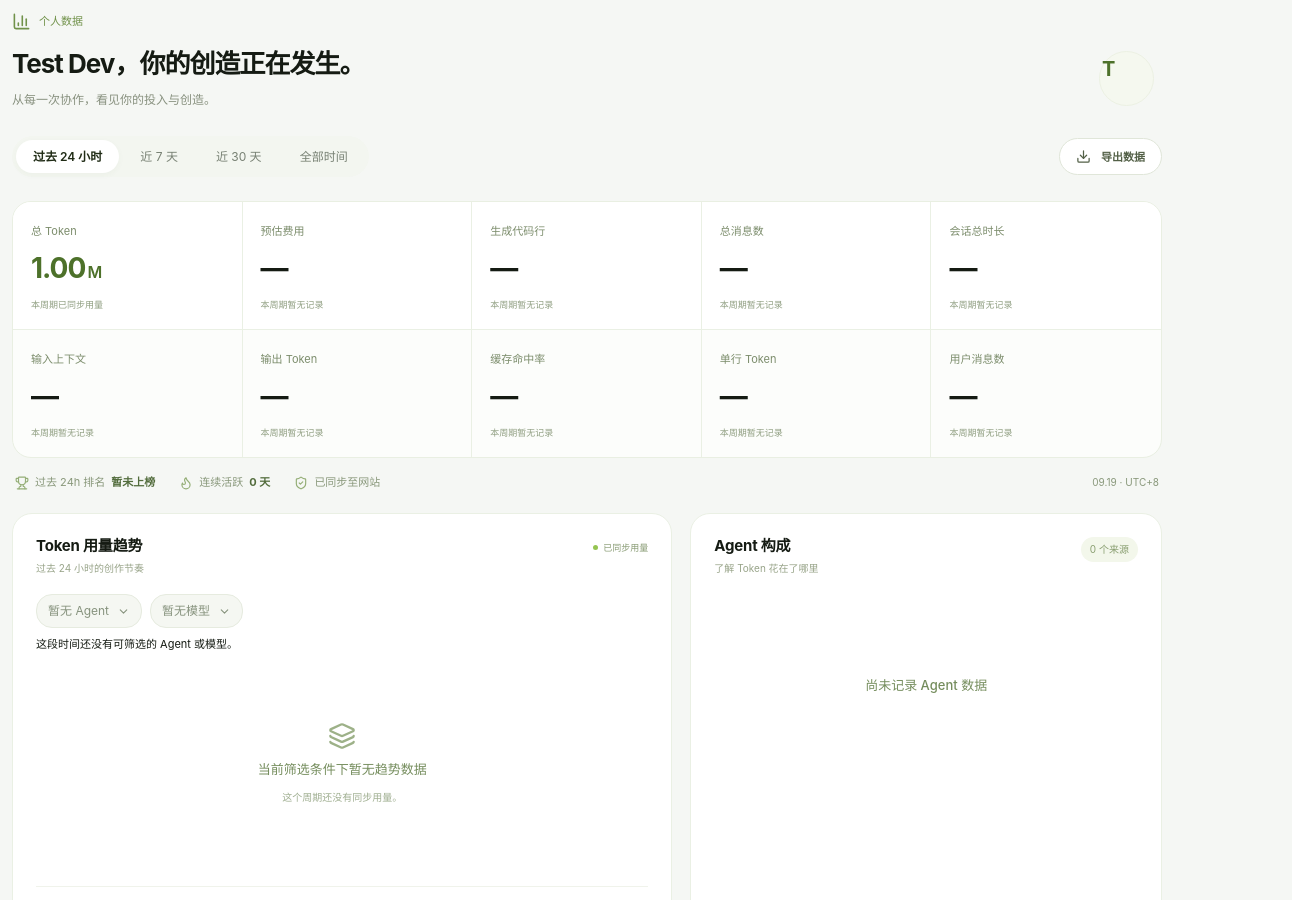
personal analytics period switching › tells the user when a refresh fails and old figures are still shown
The image size is (1292, 900).
expect the text "1.00" is shown: met, box [31,251,85,285]
Step 1. Click the button "近 7 天" → (159, 157), box [123,140,195,174]
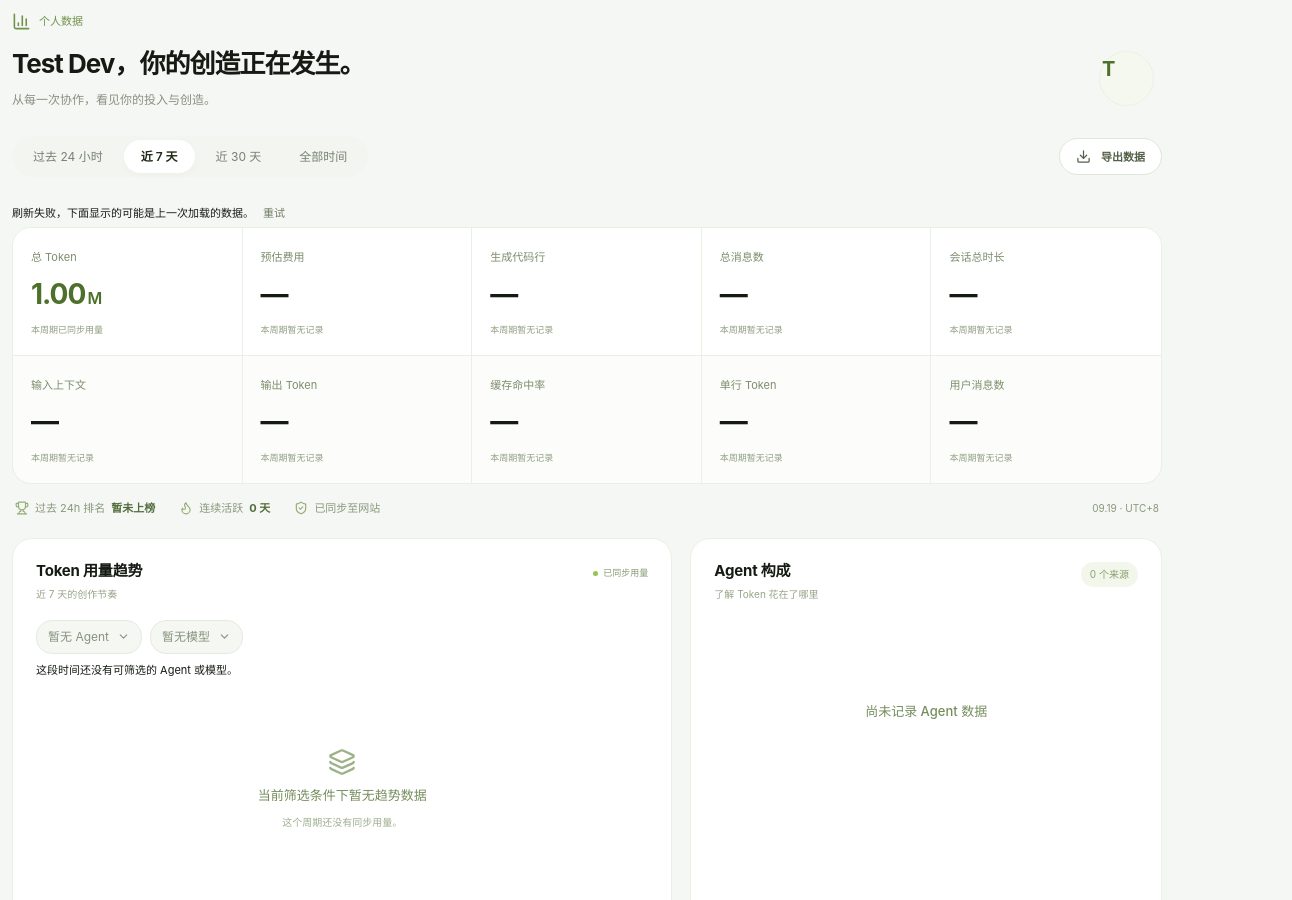
expect the text "刷新失败，下面显示的可能是上一次加载的数据。 重试" is shown: met, box [12,202,285,227]
